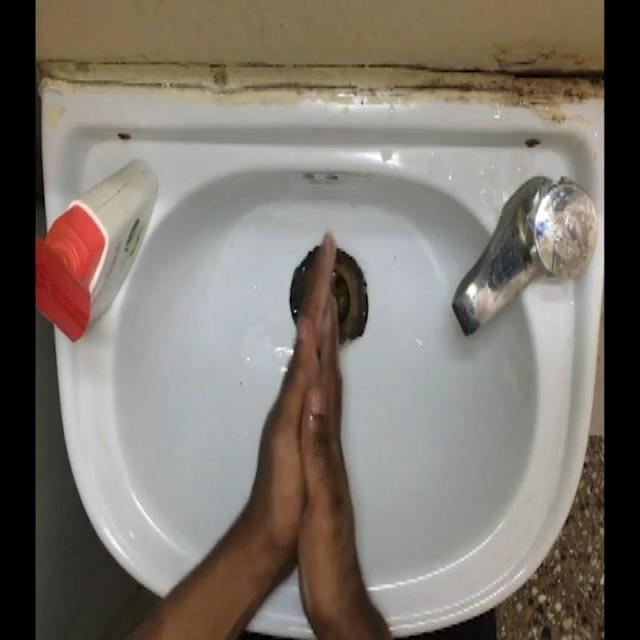step_1: (240, 212, 372, 543)
